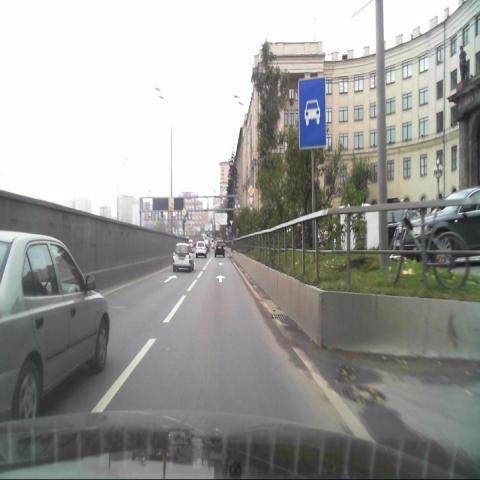5_3: (298, 77, 325, 147)
